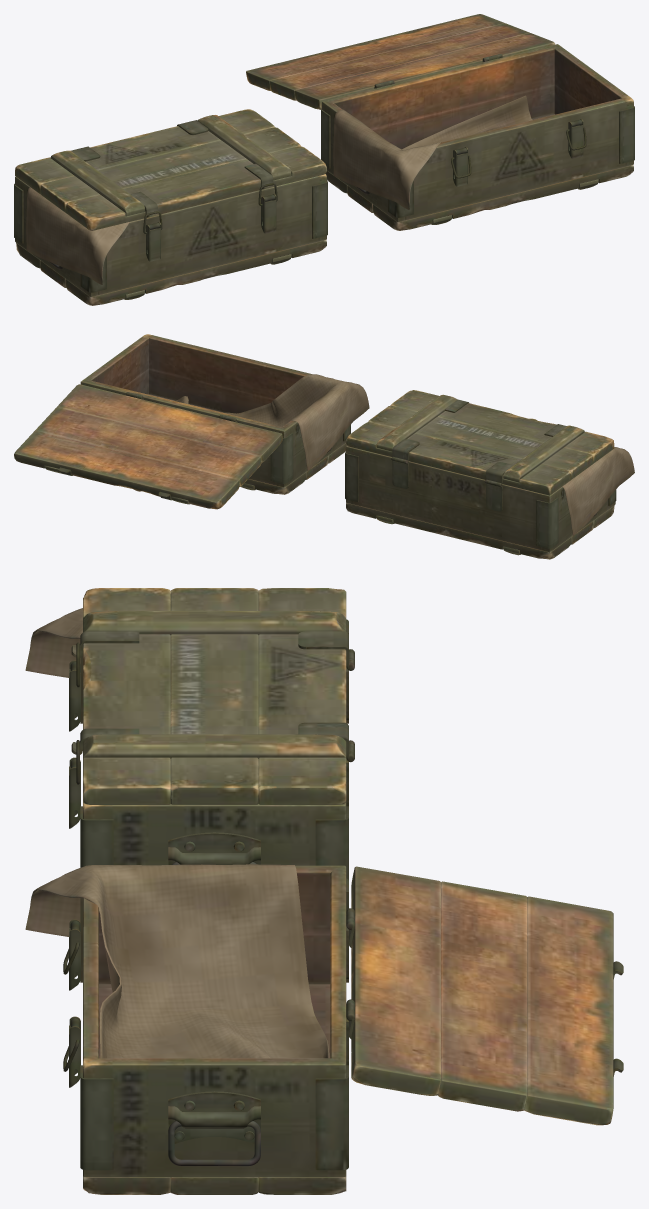
Rendered from crate_mil.glb.
The picture shows the model from 3 angles, top to bottom: view 1: azimuth 30°, elevation 25°; view 2: azimuth 150°, elevation 25°; view 3: azimuth 270°, elevation 25°; orthographic projection. The views are drawn at different scales.
Visible parts, largest first — view 1: old_military_crate_b, old_military_crate_lid_a, old_military_crate_a, old_military_crate_lid_b, old_military_crate_cloth_b, old_military_crate_cloth_a, old_military_crate_latch_a, old_military_crate_latch_b; view 2: old_military_crate_lid_b, old_military_crate_lid_a, old_military_crate_a, old_military_crate_b, old_military_crate_cloth_b, old_military_crate_cloth_a; view 3: old_military_crate_lid_a, old_military_crate_lid_b, old_military_crate_b, old_military_crate_cloth_b, old_military_crate_a, old_military_crate_cloth_a, old_military_crate_latch_b, old_military_crate_latch_a.
Part boxes in pixels (x1,y1,x2,y2): old_military_crate_b: (321,44,634,230); old_military_crate_lid_a: (15,109,326,230); old_military_crate_a: (14,174,327,305); old_military_crate_lid_b: (246,14,555,109); old_military_crate_cloth_b: (333,95,532,209); old_military_crate_cloth_a: (26,187,129,284); old_military_crate_latch_a: (146,194,276,261); old_military_crate_latch_b: (453,119,583,186); old_military_crate_lid_b: (14,384,282,509); old_military_crate_lid_a: (346,390,614,495); old_military_crate_a: (345,446,616,559); old_military_crate_b: (80,334,350,494); old_military_crate_cloth_b: (174,374,369,470); old_military_crate_cloth_a: (562,447,634,535); old_military_crate_lid_a: (71,588,354,804); old_military_crate_lid_b: (346,866,623,1125); old_military_crate_b: (80,865,354,1194); old_military_crate_cloth_b: (25,864,329,1058); old_military_crate_a: (80,619,354,879); old_military_crate_cloth_a: (25,608,82,677); old_military_crate_latch_b: (69,919,80,1087); old_military_crate_latch_a: (69,660,80,828).
Bounding box in the file's own units: 1.82 × 0.3009 × 0.9757.
Materials: 1 (1 with a texture image).
